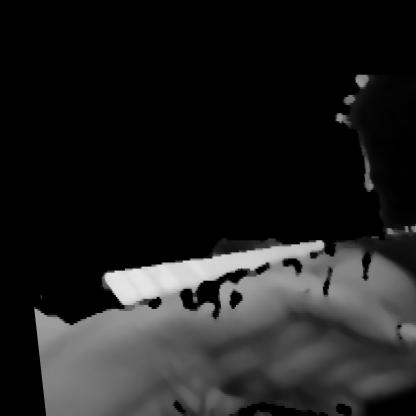handshake: (20, 240, 415, 415)
